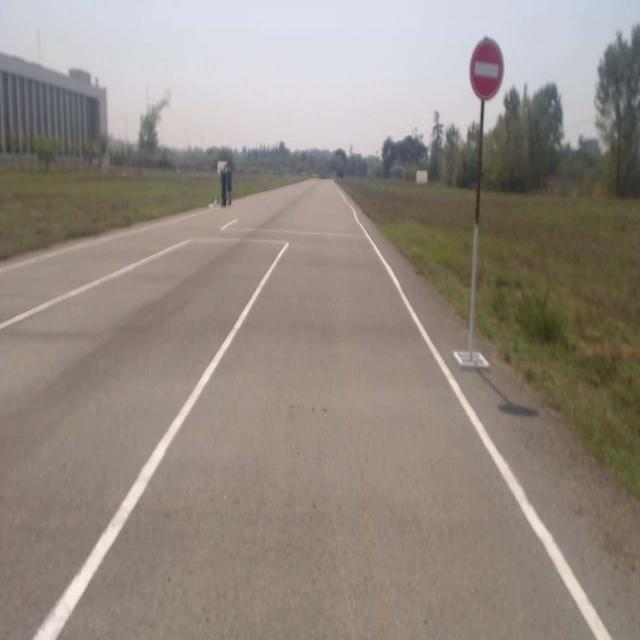girisyok: (470, 38, 504, 102)
